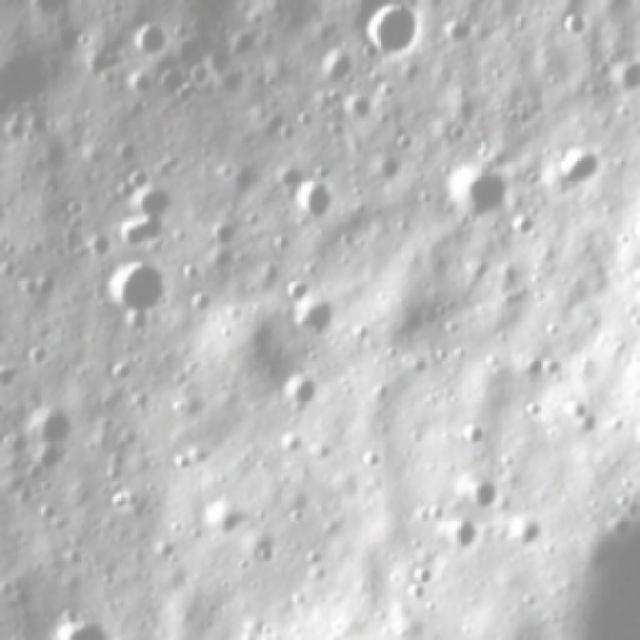crater: (113, 173, 190, 253), (98, 258, 182, 327), (443, 158, 509, 236), (363, 0, 428, 65), (0, 45, 54, 109), (554, 140, 604, 202), (198, 497, 254, 549), (23, 398, 80, 448), (294, 171, 341, 227), (308, 42, 355, 98), (292, 292, 346, 337), (278, 373, 327, 421), (0, 0, 112, 21), (50, 607, 121, 640), (433, 513, 484, 556), (466, 473, 505, 527), (152, 65, 192, 106), (128, 24, 167, 64), (188, 285, 223, 318), (211, 215, 243, 251), (0, 179, 12, 263), (193, 638, 221, 640)
